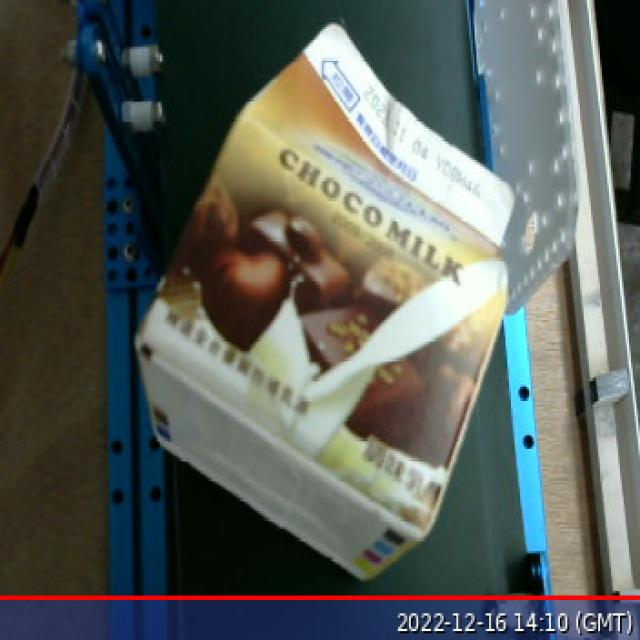non_white_jug: (123, 11, 536, 604)
